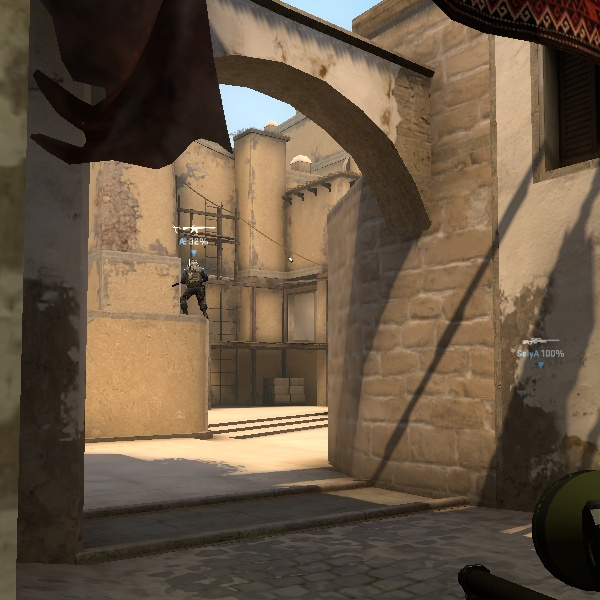t_body: (175, 255, 211, 315)
